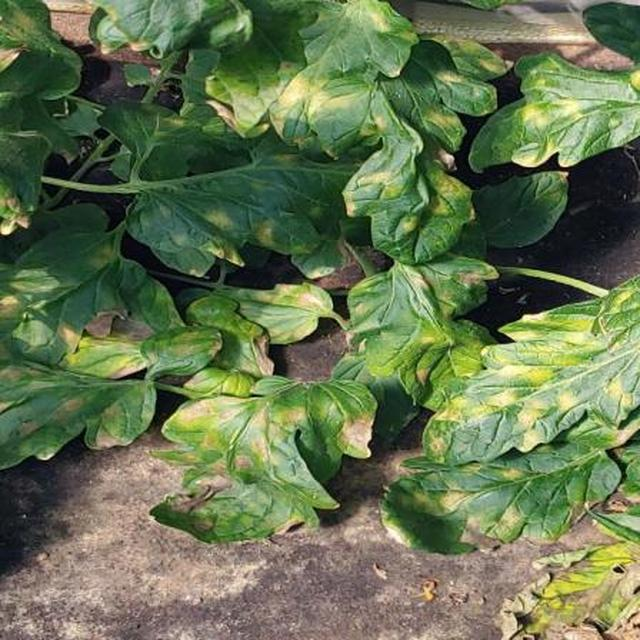Leaf Mold: (113, 114, 640, 640)
